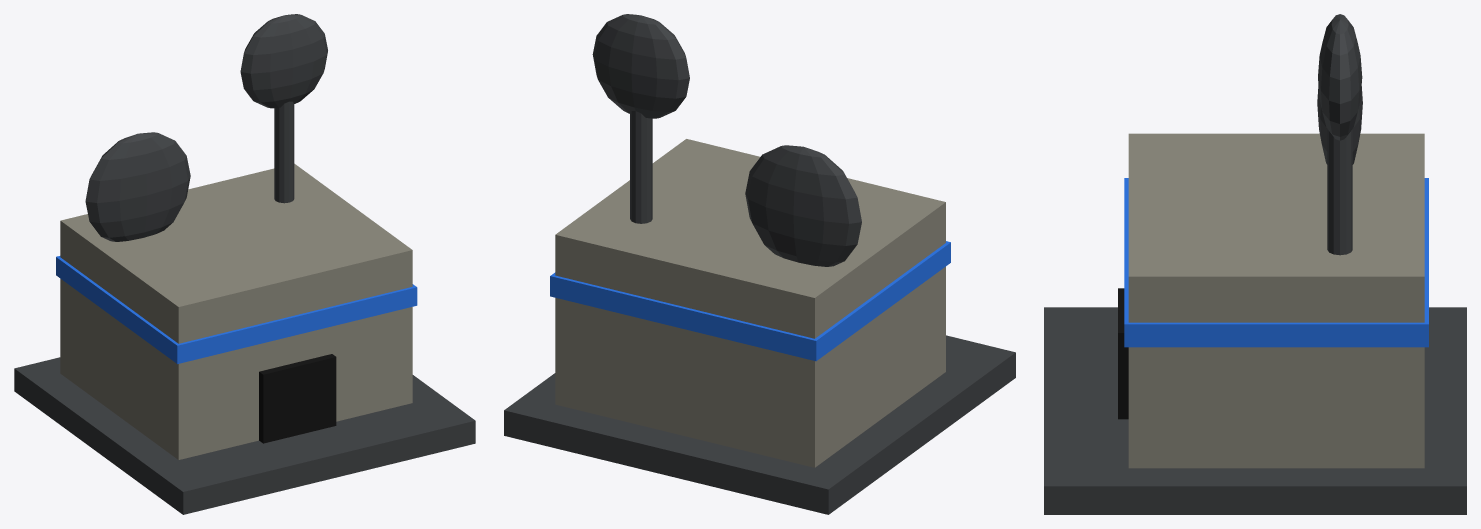
The model's file is cell_tower.glb.
3 views of the same model, side by side, from view 1: azimuth 30°, elevation 25°; view 2: azimuth 150°, elevation 25°; view 3: azimuth 270°, elevation 25° (orthographic). The views are drawn at different scales.
Visible parts, largest first — view 1: main, base, dish_big, team_band, dish, door, mast; view 2: main, base, dish_big, team_band, dish, mast; view 3: main, base, team_band, dish, mast, door, dish_big.
Boxes of the visible parts, x1,y1,x2,y2 form: main: [60, 163, 412, 459]; base: [14, 357, 475, 514]; dish_big: [85, 132, 190, 241]; team_band: [56, 256, 417, 363]; dish: [240, 14, 327, 108]; door: [259, 354, 336, 443]; mast: [274, 101, 294, 203]; main: [555, 139, 945, 467]; base: [504, 335, 1015, 514]; dish_big: [745, 145, 861, 266]; team_band: [550, 241, 950, 361]; dish: [592, 14, 689, 118]; mast: [630, 111, 652, 223]; main: [1128, 133, 1424, 468]; base: [1044, 307, 1466, 514]; team_band: [1124, 178, 1428, 347]; dish: [1318, 14, 1362, 140]; mast: [1327, 129, 1352, 255]; door: [1118, 288, 1128, 419]; dish_big: [1317, 85, 1362, 164].
Bounding box in the file's own units: 4 × 4.7 × 4.
